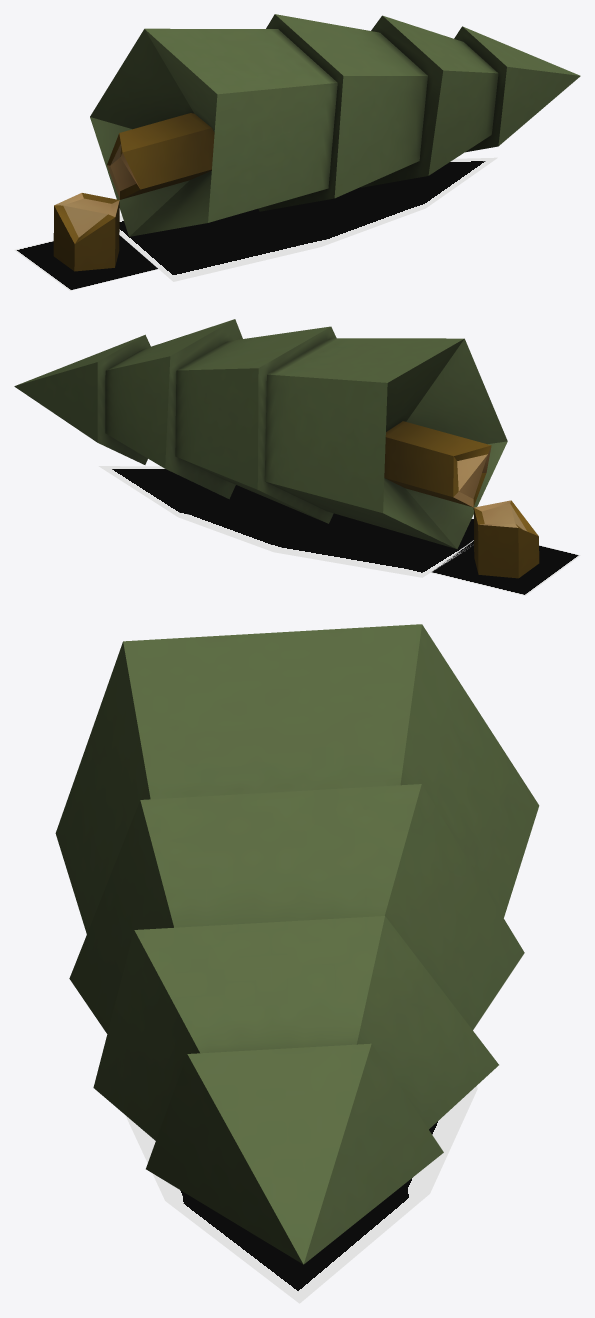
The model's file is 3x1_fallen_tree.FBX.
3 views of the same model, one above another, from view 1: azimuth 30°, elevation 25°; view 2: azimuth 150°, elevation 25°; view 3: azimuth 270°, elevation 25° (orthographic). The views are drawn at different scales.
Visible parts, largest first — view 1: 3x1_fallen_tree, 3x1_fallen_tree_soft_shadow; view 2: 3x1_fallen_tree, 3x1_fallen_tree_soft_shadow; view 3: 3x1_fallen_tree, 3x1_fallen_tree_soft_shadow.
Part boxes in pixels (box(x1,y1,x2,y2)): 3x1_fallen_tree: box(53, 14, 580, 271); 3x1_fallen_tree_soft_shadow: box(14, 157, 497, 290); 3x1_fallen_tree: box(14, 319, 539, 578); 3x1_fallen_tree_soft_shadow: box(98, 466, 580, 595); 3x1_fallen_tree: box(55, 624, 539, 1264); 3x1_fallen_tree_soft_shadow: box(125, 1086, 477, 1303).
Size of the model in its own units: 2714 by 905 by 1059.
